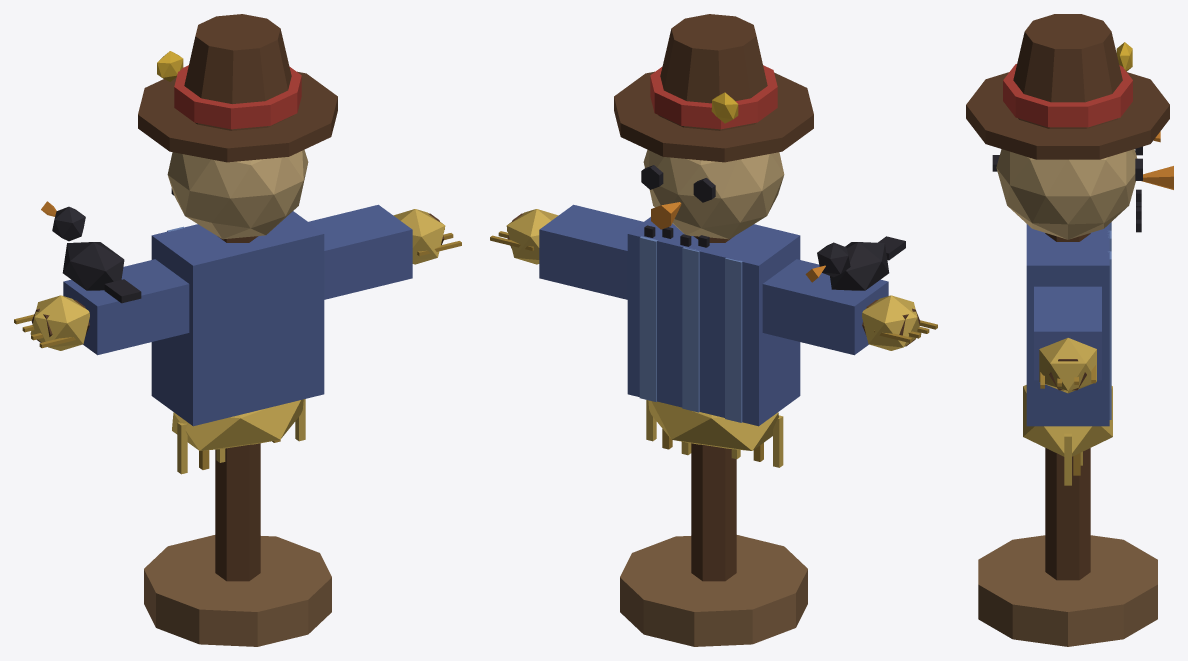
The model's file is Decor_Beanstalk_Scarecrow.fbx.
3 renders of one model, left to right at view 1: azimuth 30°, elevation 25°; view 2: azimuth 150°, elevation 25°; view 3: azimuth 270°, elevation 25°, orthographic.
Visible parts, largest first — view 1: Scarecrow_Body; view 2: Scarecrow_Body; view 3: Scarecrow_Body.
Boxes of the visible parts, box(x1,y1,x2,y2) form: Scarecrow_Body: box(14, 14, 461, 646); Scarecrow_Body: box(490, 14, 937, 646); Scarecrow_Body: box(966, 14, 1173, 646).
Bounding box in the file's own units: 12.6 × 16.5 × 5.4.
